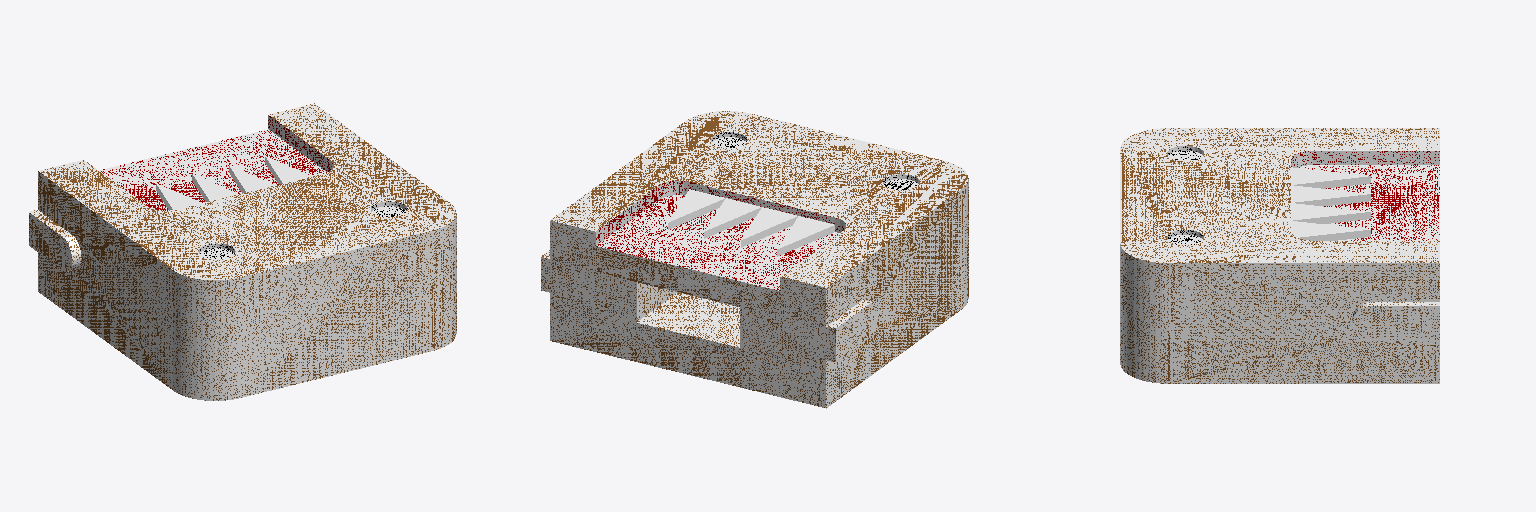
File: original-2.obj
3 renders of one model, left to right at view 1: azimuth 30°, elevation 25°; view 2: azimuth 150°, elevation 25°; view 3: azimuth 270°, elevation 25°, orthographic.
Visible parts, largest first — view 1: mesh2/mesh2-geometry#mesh2-geometry; view 2: mesh2/mesh2-geometry#mesh2-geometry; view 3: mesh2/mesh2-geometry#mesh2-geometry.
Part boxes in pixels (bbox=[...]): mesh2/mesh2-geometry#mesh2-geometry: bbox=[29, 103, 456, 400]; mesh2/mesh2-geometry#mesh2-geometry: bbox=[541, 111, 968, 408]; mesh2/mesh2-geometry#mesh2-geometry: bbox=[1120, 128, 1439, 383].
Bounding box in the file's own units: 0.6278 × 0.2452 × 0.5886.